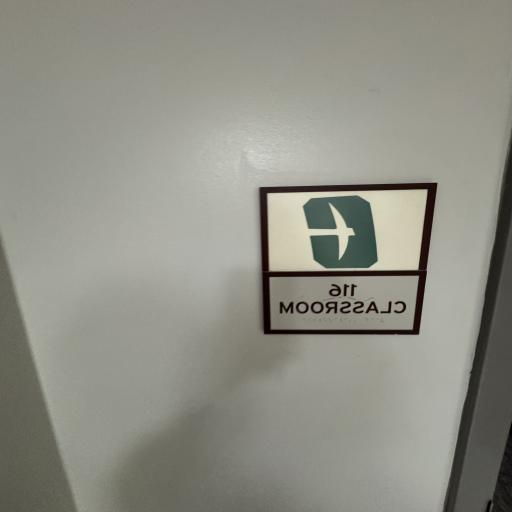room 116 sign: (251, 176, 440, 339)
